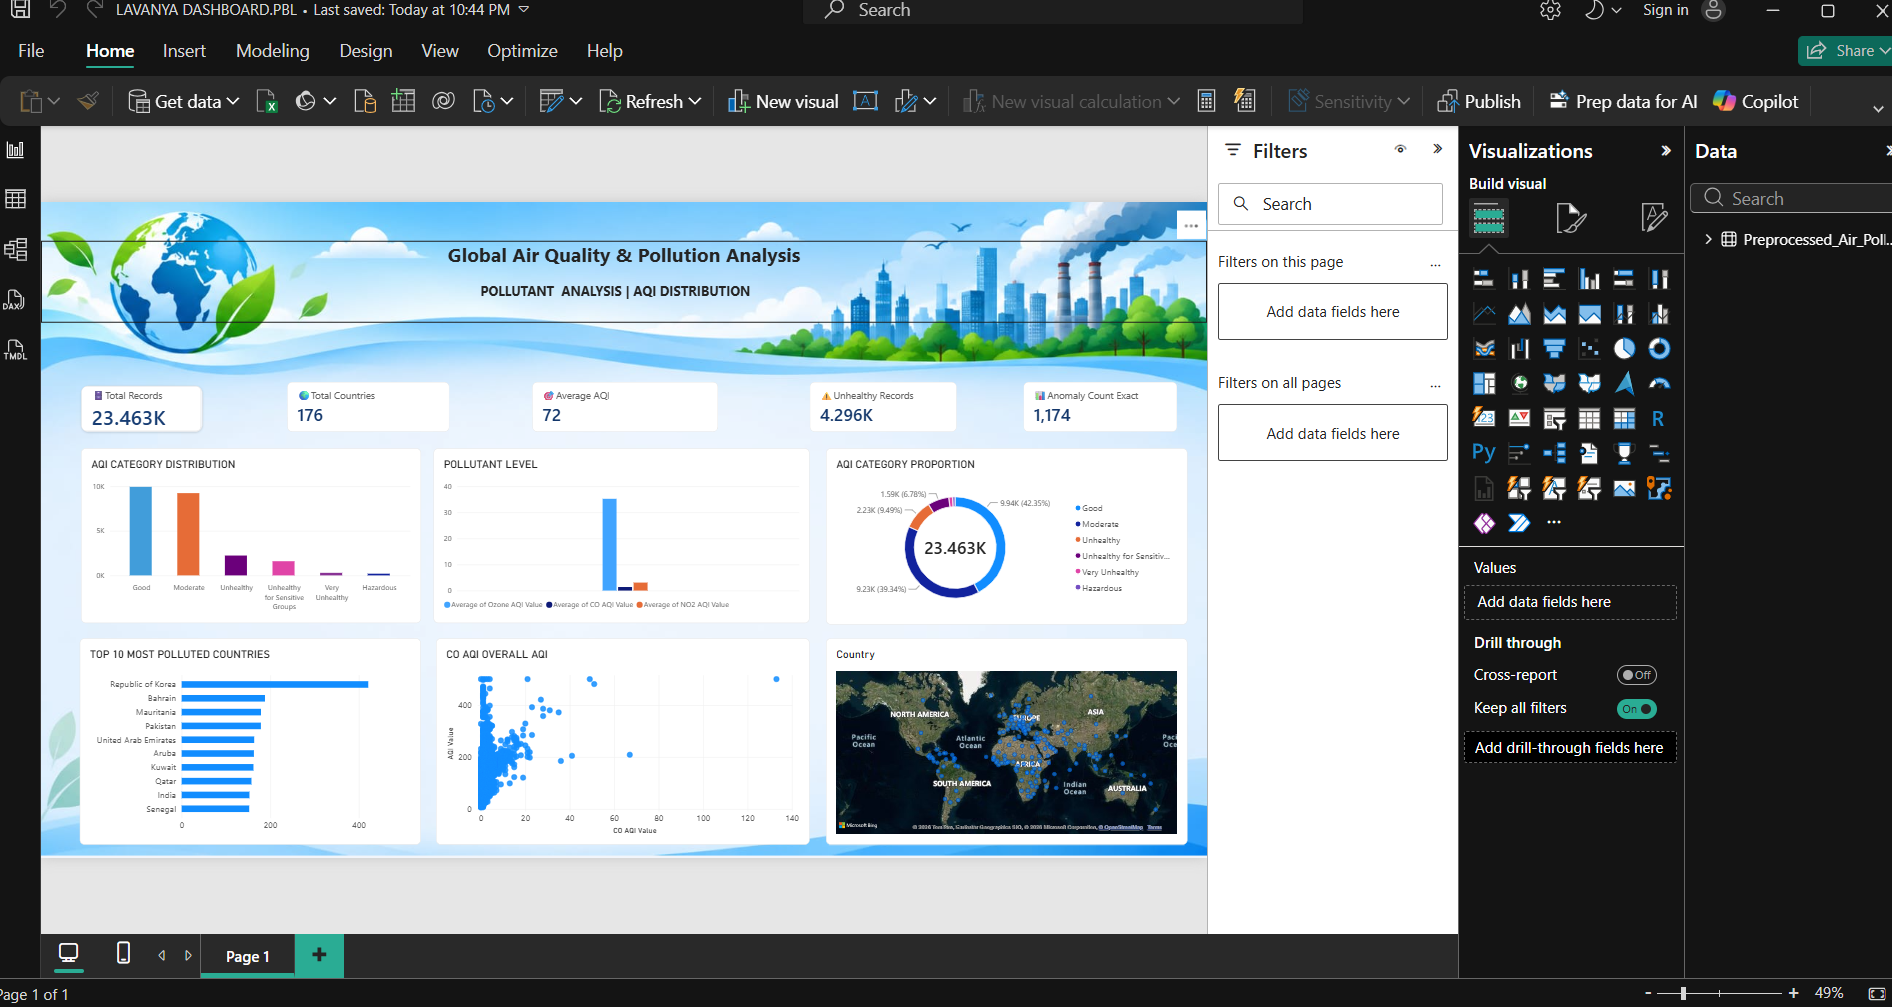

Layout of this report page (visuals, bound fields, positions):
{"tool":"powerbi","page":{"name":"Page 1","canvas":[1920,1080],"ordinal":0},"visuals":[{"type":"textbox","box":[0,63.8,1920.4,135.8],"z":0},{"type":"textbox","box":[539.3,131.7,813,47.3],"z":1000},{"type":"cardVisual","fields":{"Data":["Preprocessed_Air_Pollution.Total Countries"]},"box":[405.5,296.4,267.6,82.3],"z":2000},{"type":"cardVisual","fields":{"Data":["Preprocessed_Air_Pollution.Total Records Display"]},"box":[65.9,302.6,199.7,76.2],"z":3000},{"type":"cardVisual","fields":{"Data":["Preprocessed_Air_Pollution.Unhealthy Records"]},"box":[1265.9,296.4,242.9,82.3],"z":4000},{"type":"cardVisual","fields":{"Data":["Preprocessed_Air_Pollution.Average AQI"]},"box":[808.9,296.4,306.7,82.3],"z":5000},{"type":"clusteredColumnChart","title":"AQI CATEGORY DISTRIBUTION","fields":{"Category":["Preprocessed_Air_Pollution.AQI Category"],"Y":["CountNonNull(Preprocessed_Air_Pollution.AQI Value)"]},"box":[65.9,405.5,559.9,288.2],"z":6000},{"type":"clusteredColumnChart","title":"POLLUTANT LEVEL","fields":{"Y":["Avg(Preprocessed_Air_Pollution.Ozone AQI Value)","Avg(Preprocessed_Air_Pollution.CO AQI Value)","Avg(Preprocessed_Air_Pollution.NO2 AQI Value)"]},"box":[646.3,405.5,619.6,288.2],"z":7000},{"type":"clusteredBarChart","title":"TOP 10 MOST POLLUTED COUNTRIES ","fields":{"Category":["Preprocessed_Air_Pollution.Country"],"Y":["Avg(Preprocessed_Air_Pollution.AQI Value)"]},"box":[63.8,718.4,561.9,339.6],"z":8000},{"type":"cardVisual","fields":{"Data":["Preprocessed_Air_Pollution.Anomaly Count"]},"box":[1617.8,296.4,253.2,82.3],"z":9000},{"type":"scatterChart","title":"CO AQI OVERALL AQI ","fields":{"X":["Preprocessed_Air_Pollution.CO AQI Value"],"Y":["Preprocessed_Air_Pollution.AQI Value"]},"box":[650.4,718.4,615.4,339.6],"z":10000},{"type":"donutChart","title":"AQI CATEGORY PROPORTION","fields":{"Category":["Preprocessed_Air_Pollution.AQI Category"],"Y":["CountNonNull(Preprocessed_Air_Pollution.AQI Value)"]},"box":[1292.6,405.5,594.9,290.2],"z":11000},{"type":"map","fields":{"Category":["Preprocessed_Air_Pollution.Country"]},"box":[1292.6,718.4,594.9,339.6],"z":12000}]}

Visuals, with their boxes on the page's 1920x1080 design canvas (x1, y1, x2, y2). These are canvas units, not pixel positions in the 1892x1007 screenshot, which may show the page scaled, cropped or inside an application window:
textbox: crop(0, 64, 1920, 200)
textbox: crop(539, 132, 1352, 179)
cardVisual - Preprocessed_Air_Pollution.Total Countries: crop(406, 296, 673, 379)
cardVisual - Preprocessed_Air_Pollution.Total Records Display: crop(66, 303, 266, 379)
cardVisual - Preprocessed_Air_Pollution.Unhealthy Records: crop(1266, 296, 1509, 379)
cardVisual - Preprocessed_Air_Pollution.Average AQI: crop(809, 296, 1116, 379)
"AQI CATEGORY DISTRIBUTION" clusteredColumnChart: crop(66, 406, 626, 694)
"POLLUTANT LEVEL" clusteredColumnChart: crop(646, 406, 1266, 694)
"TOP 10 MOST POLLUTED COUNTRIES " clusteredBarChart: crop(64, 718, 626, 1058)
cardVisual - Preprocessed_Air_Pollution.Anomaly Count: crop(1618, 296, 1871, 379)
"CO AQI OVERALL AQI " scatterChart: crop(650, 718, 1266, 1058)
"AQI CATEGORY PROPORTION" donutChart: crop(1293, 406, 1888, 696)
map - Preprocessed_Air_Pollution.Country: crop(1293, 718, 1888, 1058)
